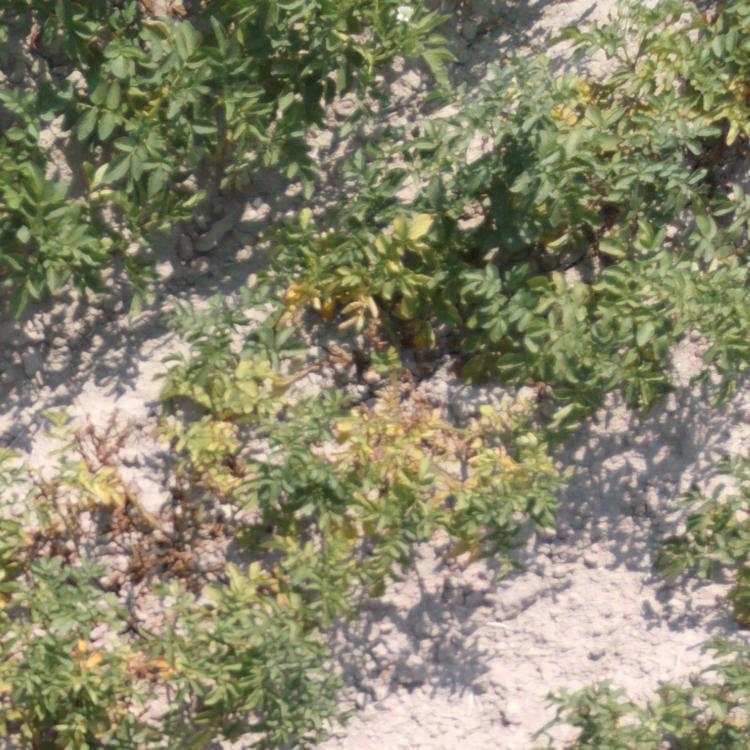healthy: (259, 1, 508, 169), (1, 1, 111, 304), (115, 1, 255, 208), (551, 236, 738, 387), (663, 436, 746, 627), (566, 660, 750, 745)
stressed: (45, 407, 556, 545), (539, 6, 750, 223), (286, 200, 529, 347), (1, 532, 162, 750), (171, 550, 340, 744), (165, 310, 307, 408)
